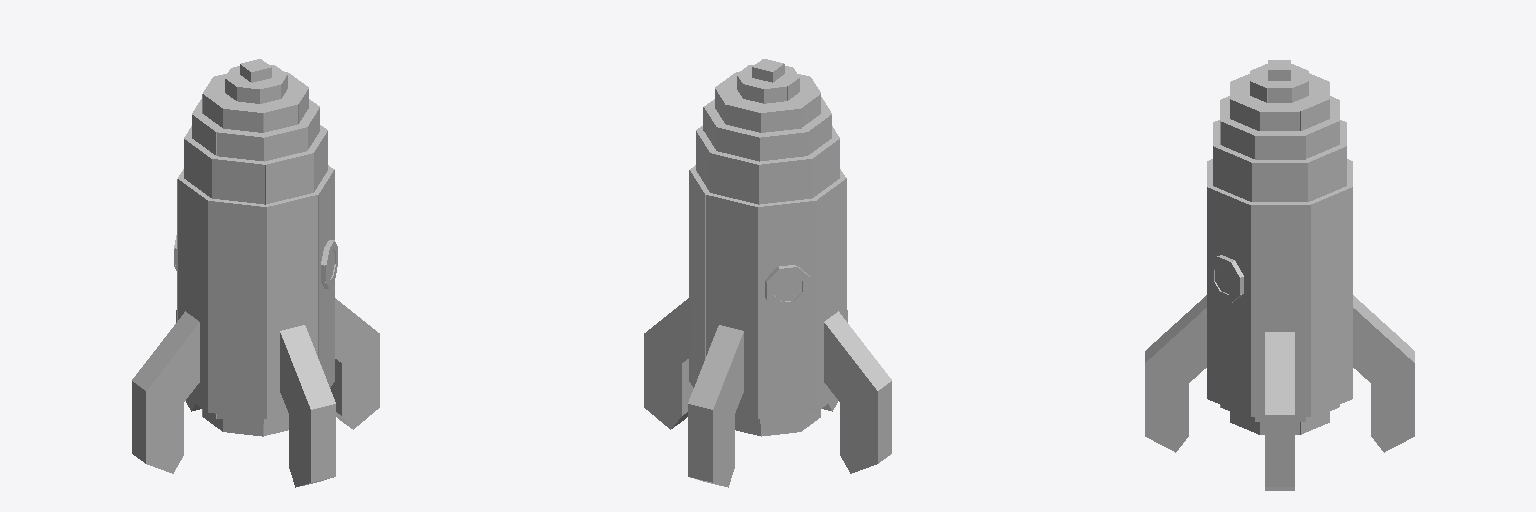
Rendered from ToyRocket.obj.
3 views of the same model, side by side, from view 1: azimuth 30°, elevation 25°; view 2: azimuth 150°, elevation 25°; view 3: azimuth 270°, elevation 25° (orthographic).
Parts seen in each view (by area): view 1: cube; view 2: cube; view 3: cube.
Part boxes in pixels (left/top/right/bottom): cube: left=132, top=59, right=379, bottom=487; cube: left=644, top=59, right=891, bottom=487; cube: left=1145, top=60, right=1414, bottom=490.
Size of the model in its own units: 0.5777 by 0.8987 by 0.5777.